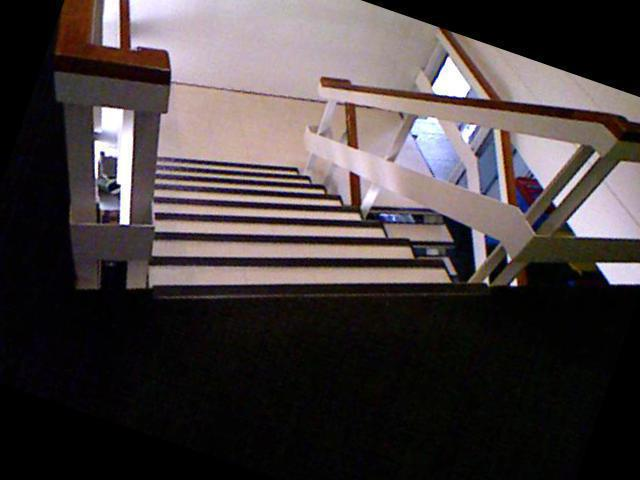Escaleras: (106, 130, 468, 367), (343, 194, 513, 318)
